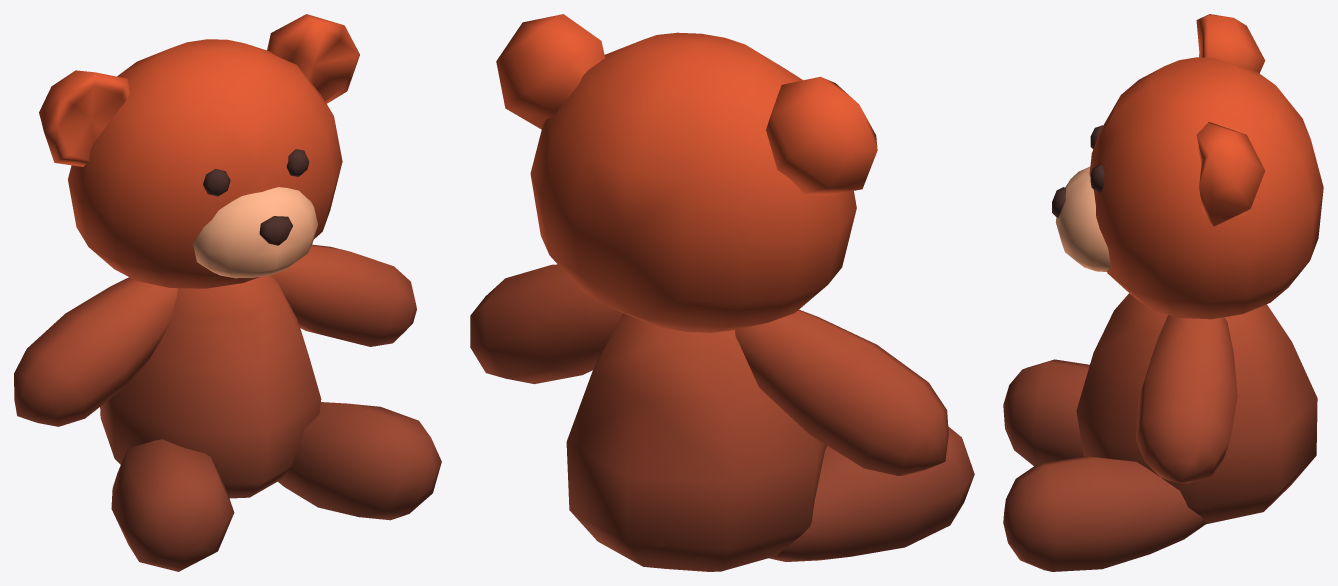
Rendered from Bear_001.fbx.
3 views of the same model, side by side, from view 1: azimuth 30°, elevation 25°; view 2: azimuth 150°, elevation 25°; view 3: azimuth 270°, elevation 25° (orthographic). The views are drawn at different scales.
Parts seen in each view (by area): view 1: Bear_001; view 2: Bear_001; view 3: Bear_001.
Boxes of the visible parts, x1,y1,x2,y2 form: Bear_001: [14, 14, 441, 571]; Bear_001: [470, 14, 974, 571]; Bear_001: [1003, 14, 1323, 571].
Size of the model in its own units: 45.6 by 31.36 by 48.91.
